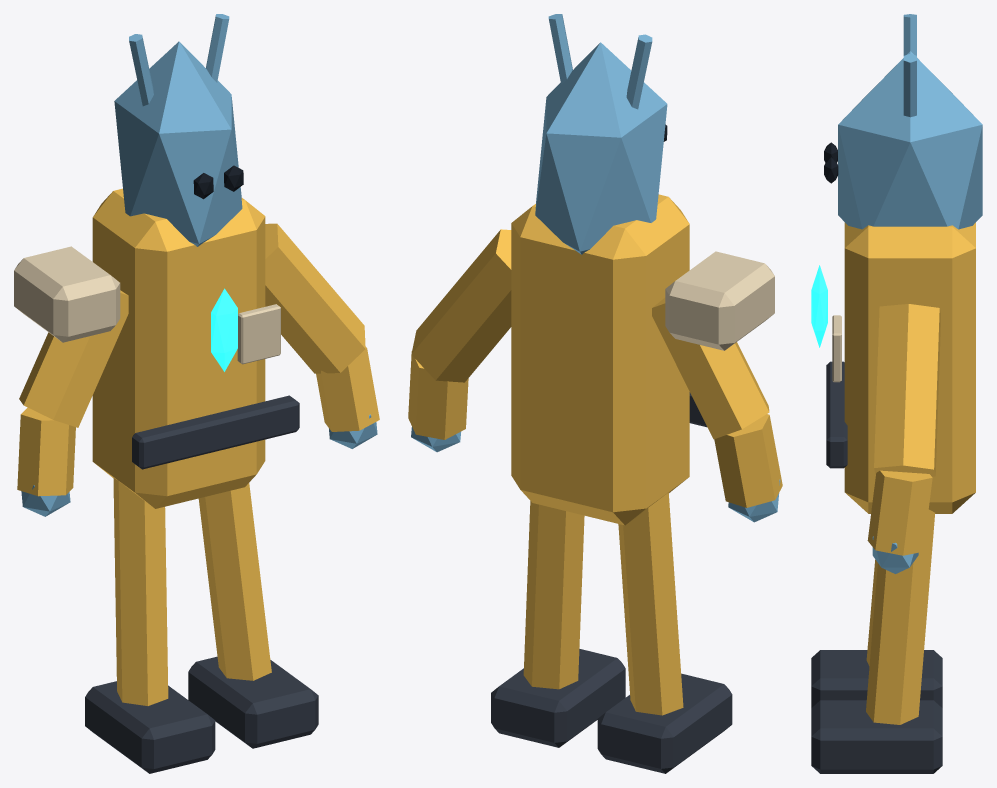
File: npcs_026_seed11.glb
3 renders of one model, left to right at view 1: azimuth 30°, elevation 25°; view 2: azimuth 150°, elevation 25°; view 3: azimuth 270°, elevation 25°, orthographic. The views are drawn at different scales.
Visible parts, largest first — view 1: npcs_026_seed11; view 2: npcs_026_seed11; view 3: npcs_026_seed11.
Part boxes in pixels (x1=…): npcs_026_seed11: x1=14, y1=14, x2=379, y2=773; npcs_026_seed11: x1=408, y1=14, x2=782, y2=773; npcs_026_seed11: x1=811, y1=14, x2=982, y2=773.
Bounding box in the file's own units: 1.1 × 2.07 × 0.4611.
